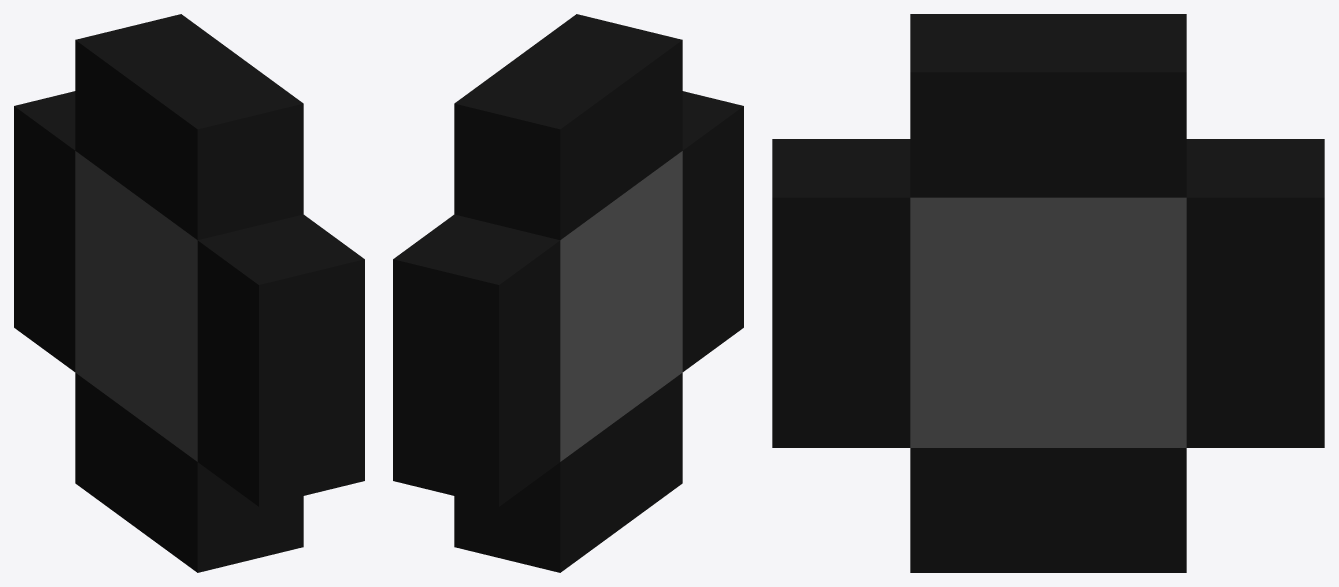
The model's file is npc_car_wheels.gltf.
3 renders of one model, left to right at view 1: azimuth 30°, elevation 25°; view 2: azimuth 150°, elevation 25°; view 3: azimuth 270°, elevation 25°, orthographic. The views are drawn at different scales.
Visible parts, largest first — view 1: Layer.1; view 2: Layer.1; view 3: Layer.1.
Part boxes in pixels (x1,y1,x2,y2): Layer.1: (14, 14, 364, 572); Layer.1: (393, 14, 743, 572); Layer.1: (772, 14, 1324, 572).
Bounding box in the file's own units: 1 × 4 × 4.
1 material, 1 textured.
